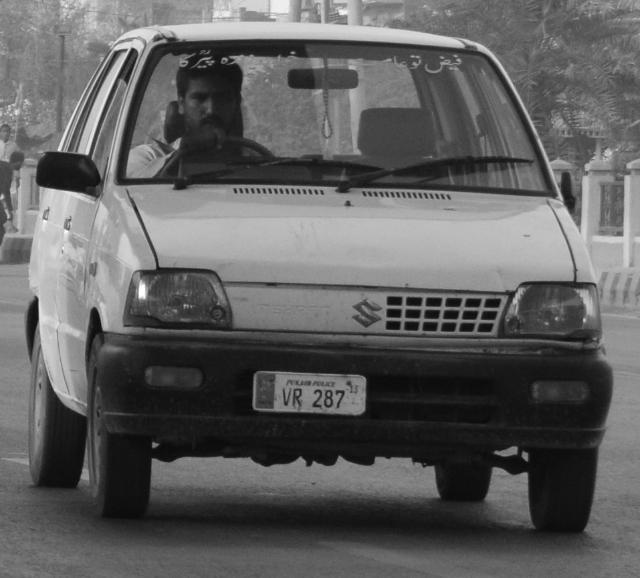Number: (278, 384, 350, 408)
